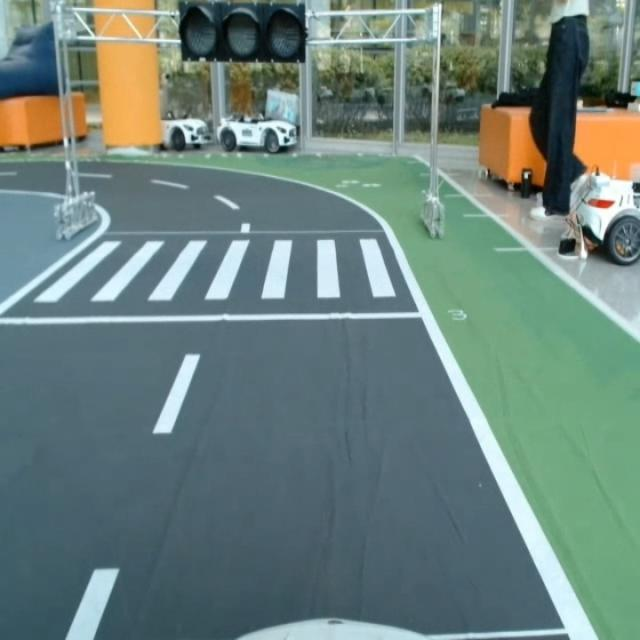traffic-light: (177, 4, 312, 67)
